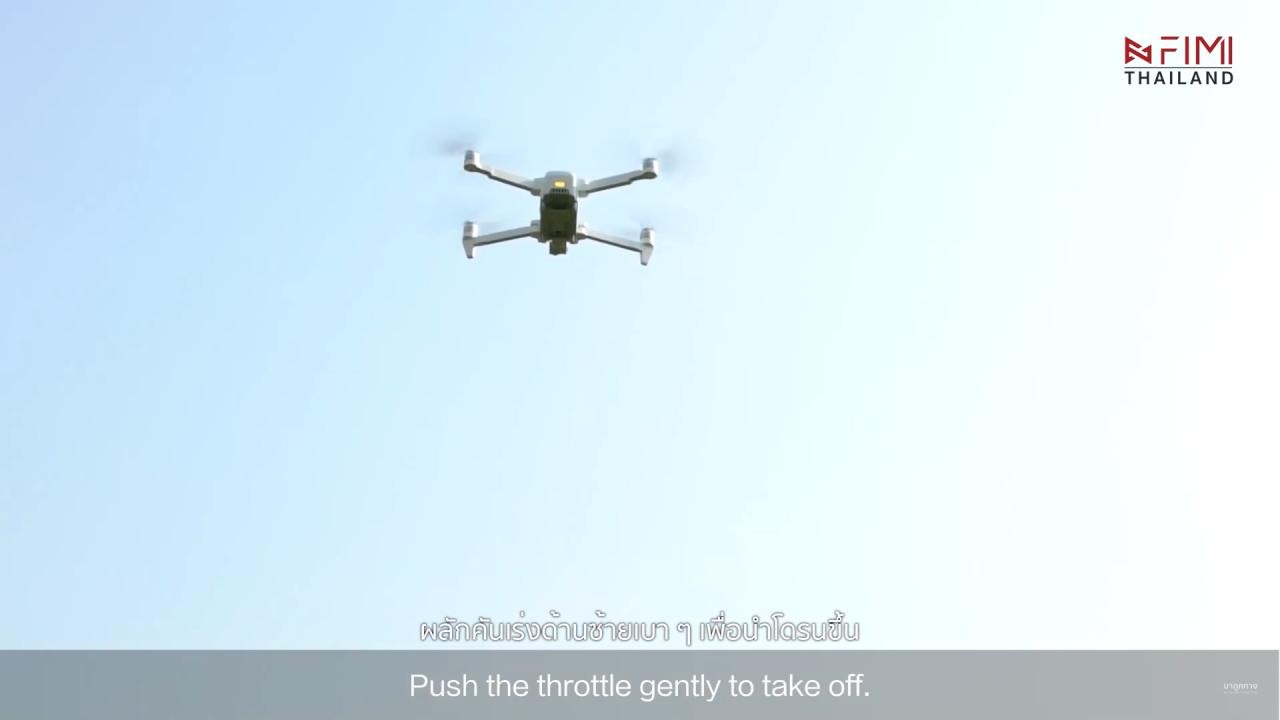Drone: (419, 112, 705, 281)
